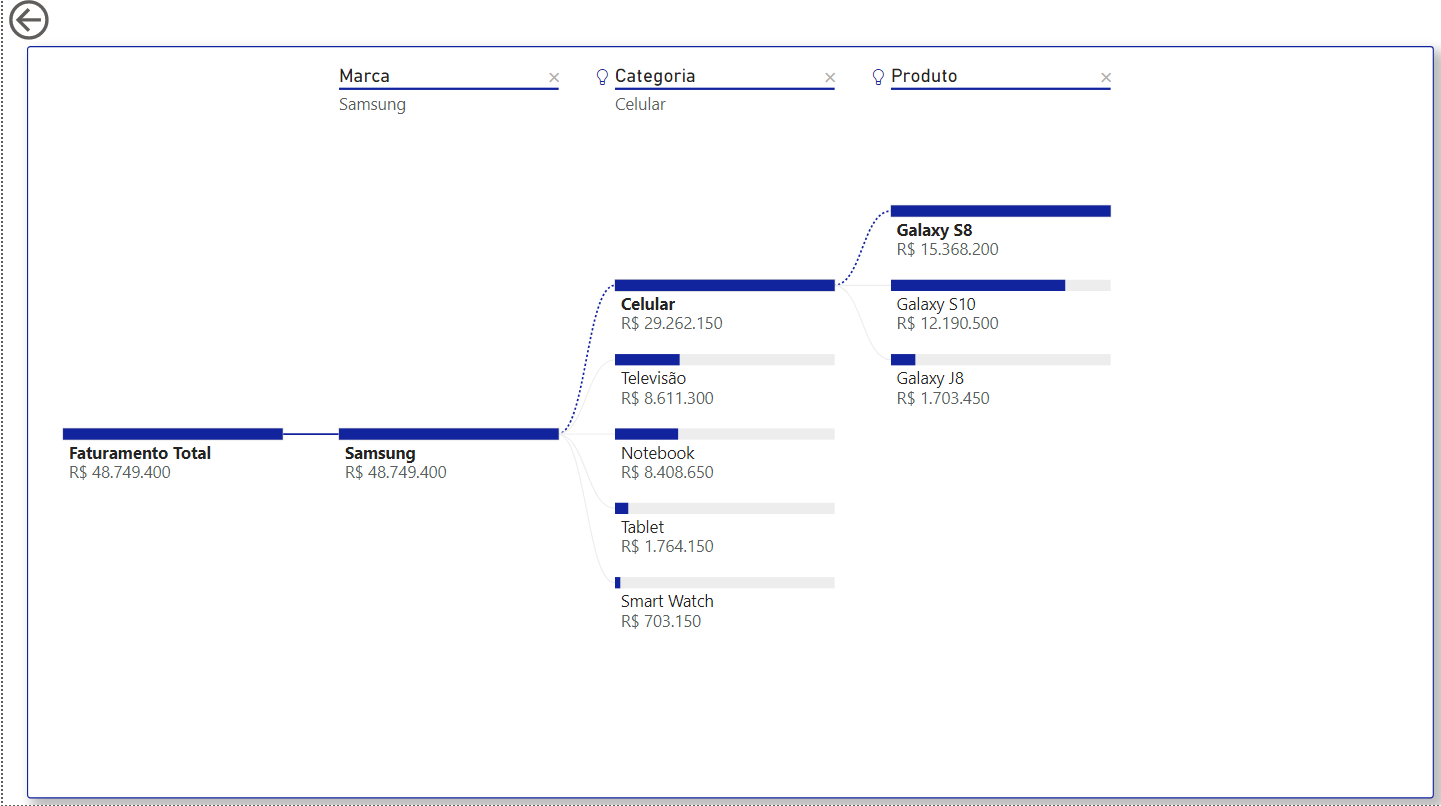

Layout of this report page (visuals, bound fields, positions):
{"tool":"powerbi","page":{"name":"Detalhamento Produtos","canvas":[1280,720],"ordinal":1},"visuals":[{"type":"decompositionTreeVisual","fields":{"Analyze":["Vendas.Faturamento Total"],"ExplainBy":["CadastroProdutos.Marca","CadastroProdutos.Categoria","CadastroProdutos.Produto"]},"box":[21.6,45.7,1248.9,668.1],"z":0},{"type":"actionButton","box":[0,0,53.5,45.7],"z":1000}]}

Visuals, with their boxes on the page's 1280x720 design canvas (x1, y1, x2, y2). These are canvas units, not pixel positions in the 1441x806 screenshot, which may show the page scaled, cropped or inside an application window:
decompositionTreeVisual - Vendas.Faturamento Total x CadastroProdutos.Marca: bbox=[22, 46, 1270, 714]
actionButton: bbox=[0, 0, 54, 46]
